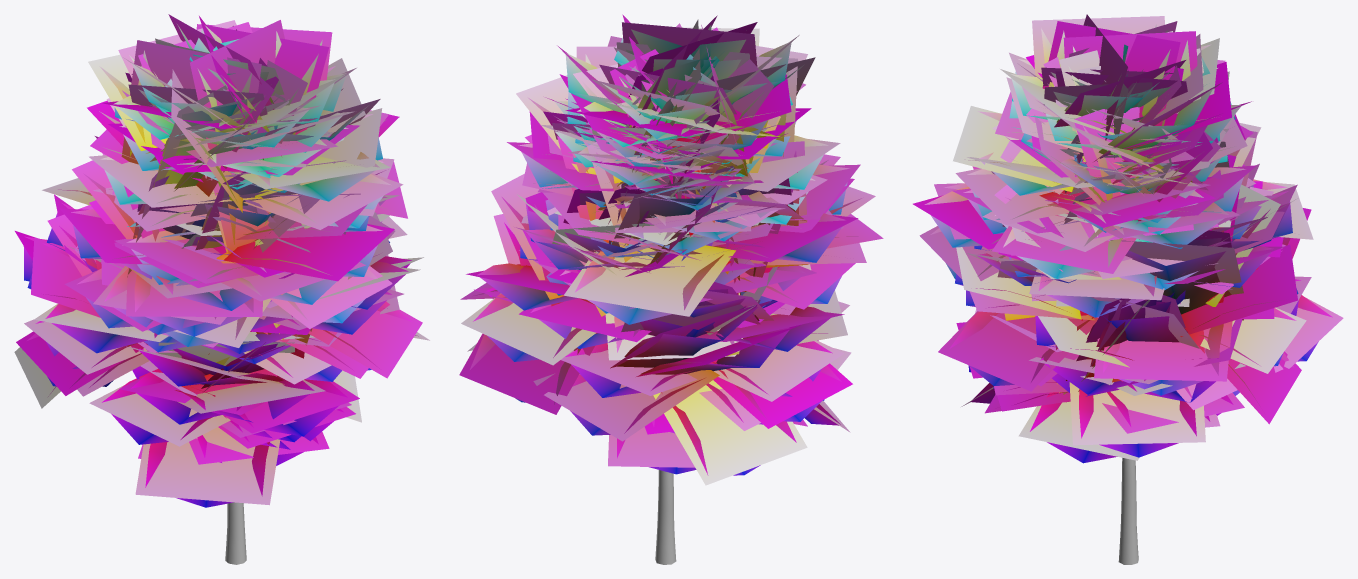
Rendered from oak_03_4.fbx.
3 renders of one model, left to right at view 1: azimuth 30°, elevation 25°; view 2: azimuth 150°, elevation 25°; view 3: azimuth 270°, elevation 25°, orthographic. The views are drawn at different scales.
Visible parts, largest first — view 1: oak_leaves_03_4_shadow, oak_leaves_03_4_lod_0, oak_tree_03_4_lod_0; view 2: oak_leaves_03_4_shadow, oak_leaves_03_4_lod_0, oak_tree_03_4_lod_0; view 3: oak_leaves_03_4_shadow, oak_leaves_03_4_lod_0, oak_tree_03_4_lod_0.
Part boxes in pixels (bbox=[...]): oak_leaves_03_4_shadow: bbox=[14, 14, 429, 505]; oak_leaves_03_4_lod_0: bbox=[23, 24, 418, 507]; oak_tree_03_4_lod_0: bbox=[225, 502, 246, 564]; oak_leaves_03_4_shadow: bbox=[459, 14, 883, 485]; oak_leaves_03_4_lod_0: bbox=[470, 25, 861, 475]; oak_tree_03_4_lod_0: bbox=[655, 470, 676, 564]; oak_leaves_03_4_shadow: bbox=[913, 14, 1343, 460]; oak_leaves_03_4_lod_0: bbox=[924, 24, 1332, 463]; oak_tree_03_4_lod_0: bbox=[1118, 458, 1138, 564].
Size of what is drawn, in the model's own units: 8.57 by 12.09 by 9.19.
